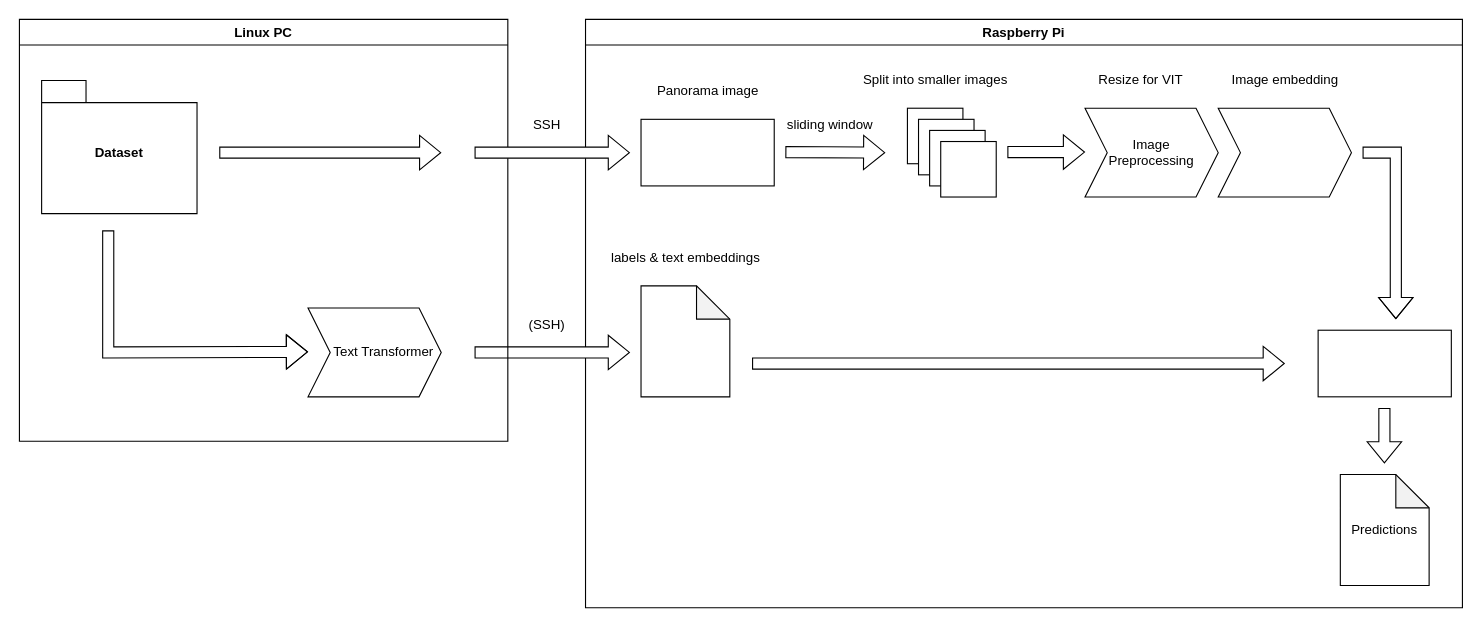
Image size: 1482x627. Some labels were removed from this diagram. The centre of each missing label's shape, as x and y in pixels:
.json: point (685, 341)
Prediction: point (1384, 363)
VIT: point (1284, 152)
